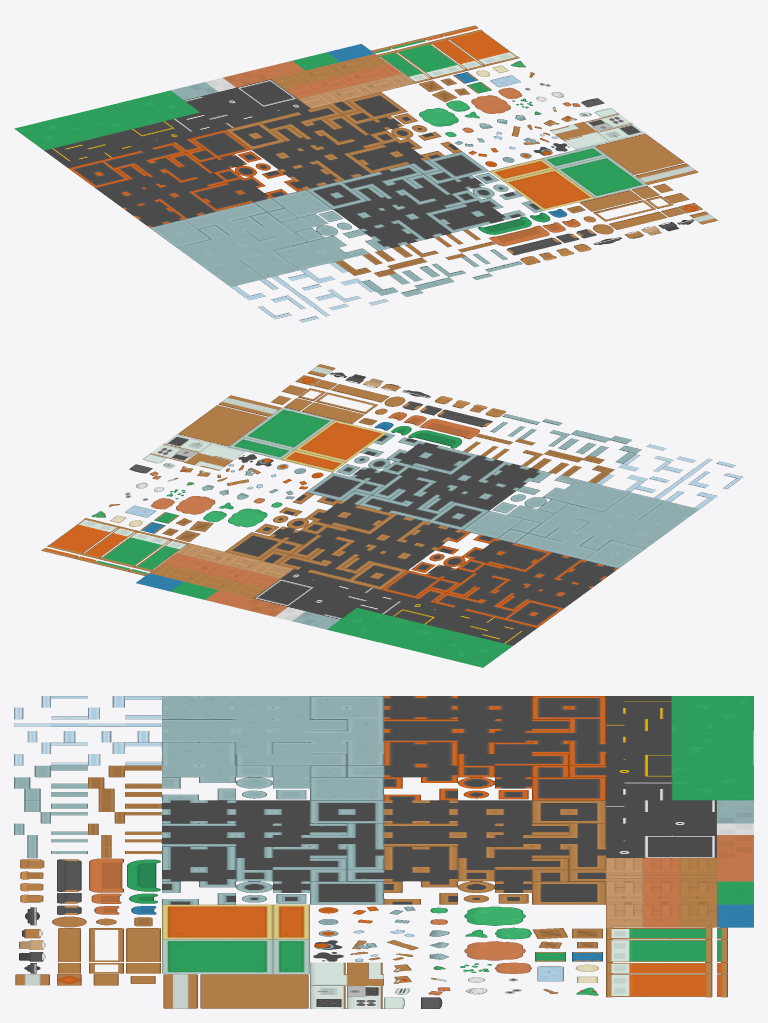
File: test_spritesheet.obj
3 views of the same model, one above another, from view 1: azimuth 30°, elevation 25°; view 2: azimuth 150°, elevation 25°; view 3: azimuth 270°, elevation 25° (orthographic). The views are drawn at different scales.
Visible parts, largest first — view 1: Grid; view 2: Grid; view 3: Grid.
Part boxes in pixels (x1=…): Grid: x1=14, y1=25, x2=717, y2=322; Grid: x1=41, y1=364, x2=743, y2=667; Grid: x1=14, y1=696, x2=753, y2=1008.
Bounding box in the file's own units: 10 × 0 × 10.
